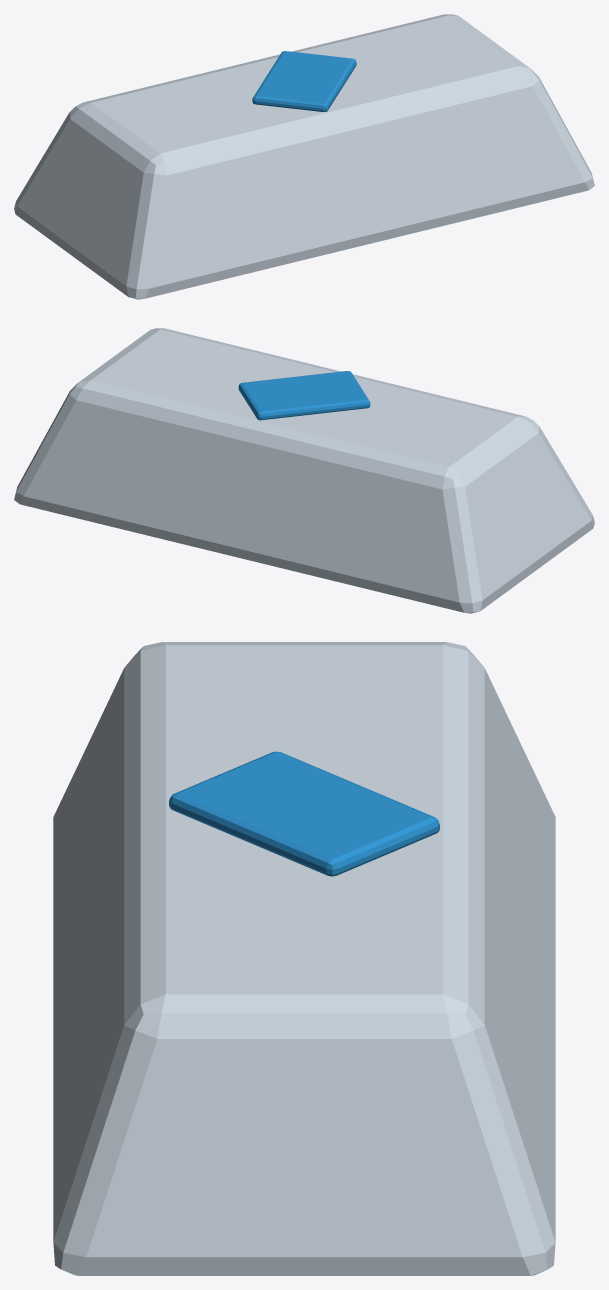
File: IronIngot.fbx
3 renders of one model, top to bottom at view 1: azimuth 30°, elevation 25°; view 2: azimuth 150°, elevation 25°; view 3: azimuth 270°, elevation 25°, orthographic. The views are drawn at different scales.
Parts seen in each view (by area): view 1: Ingot; view 2: Ingot; view 3: Ingot.
Boxes of the visible parts, x1,y1,x2,y2 form: Ingot: (14, 14, 594, 299); Ingot: (14, 328, 594, 613); Ingot: (53, 642, 555, 1275).
Size of the model in its own units: 0.4111 by 0.106 by 0.1921.
